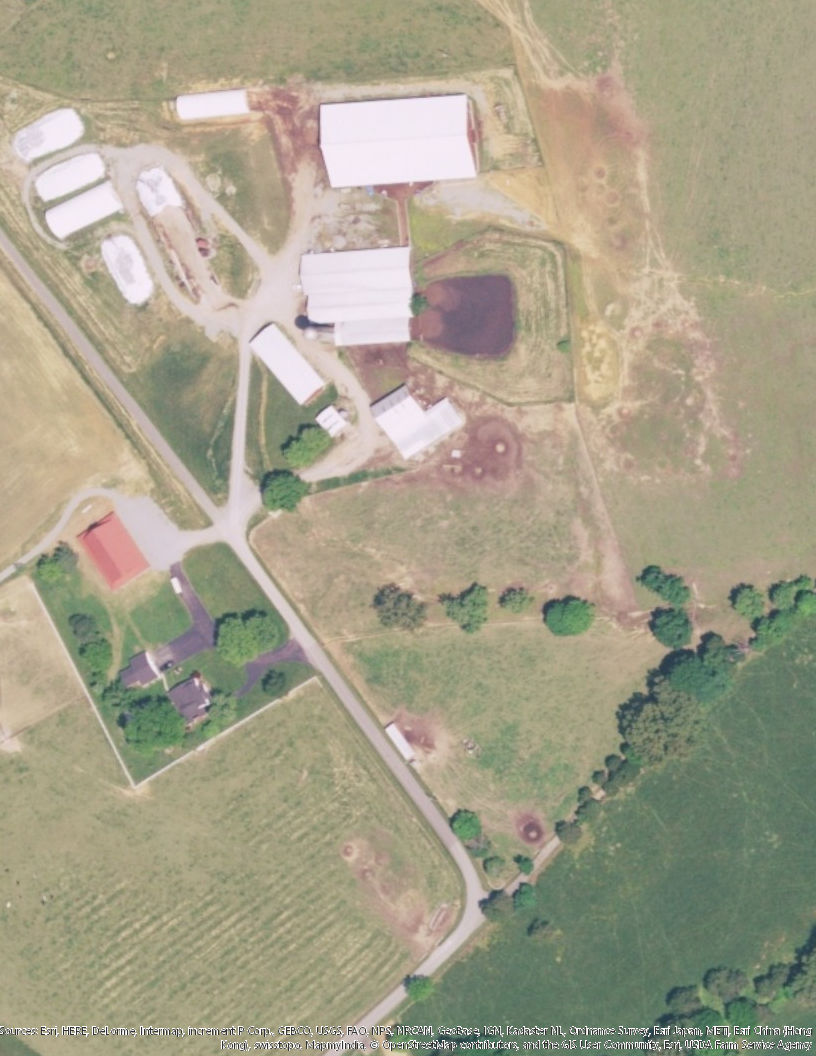cafo: (308, 84, 498, 193), (287, 238, 438, 357), (359, 380, 473, 458), (245, 322, 329, 413), (169, 85, 261, 122)
